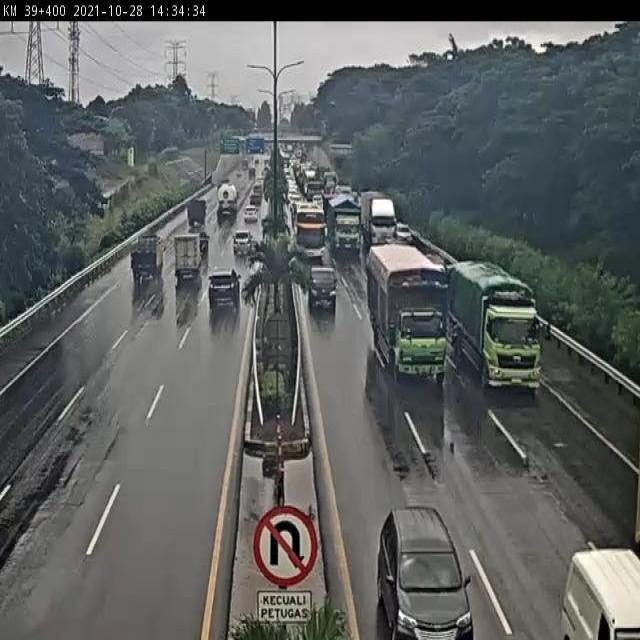car: (377, 506, 472, 640), (302, 263, 338, 312), (207, 269, 245, 312), (227, 231, 255, 265)
truck: (447, 260, 546, 395), (367, 242, 448, 382), (292, 203, 328, 268), (325, 190, 361, 254), (359, 189, 397, 243), (129, 233, 165, 288), (171, 235, 205, 285), (184, 200, 210, 233)
